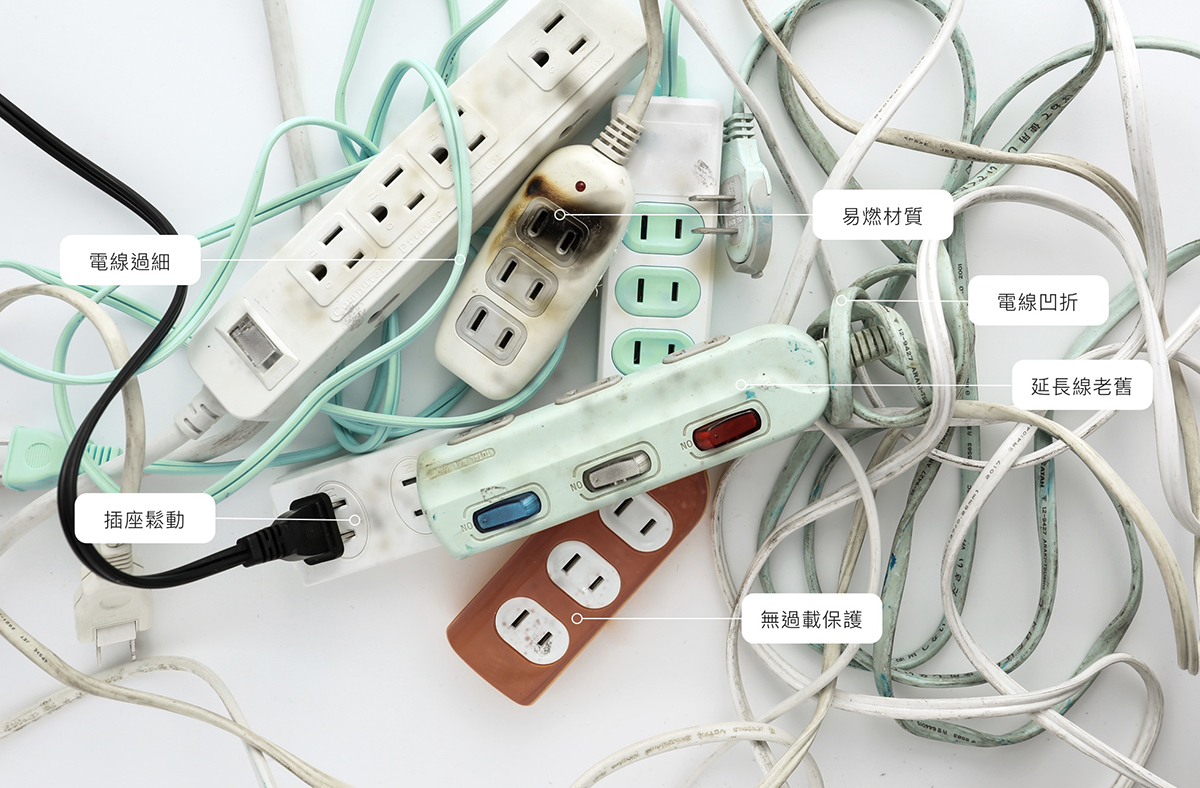socket: (168, 1, 655, 425), (416, 320, 893, 562), (447, 465, 710, 708), (432, 107, 647, 401), (271, 403, 516, 597), (595, 95, 717, 388)
